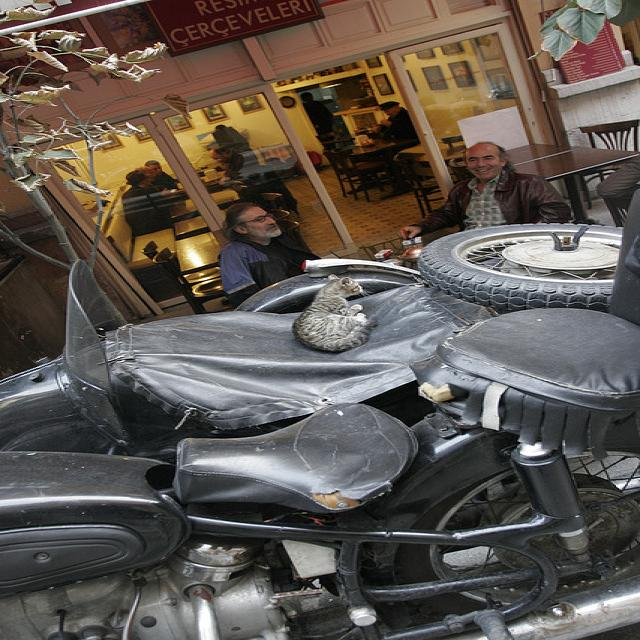motor: (0, 309, 640, 639), (0, 223, 635, 450)
